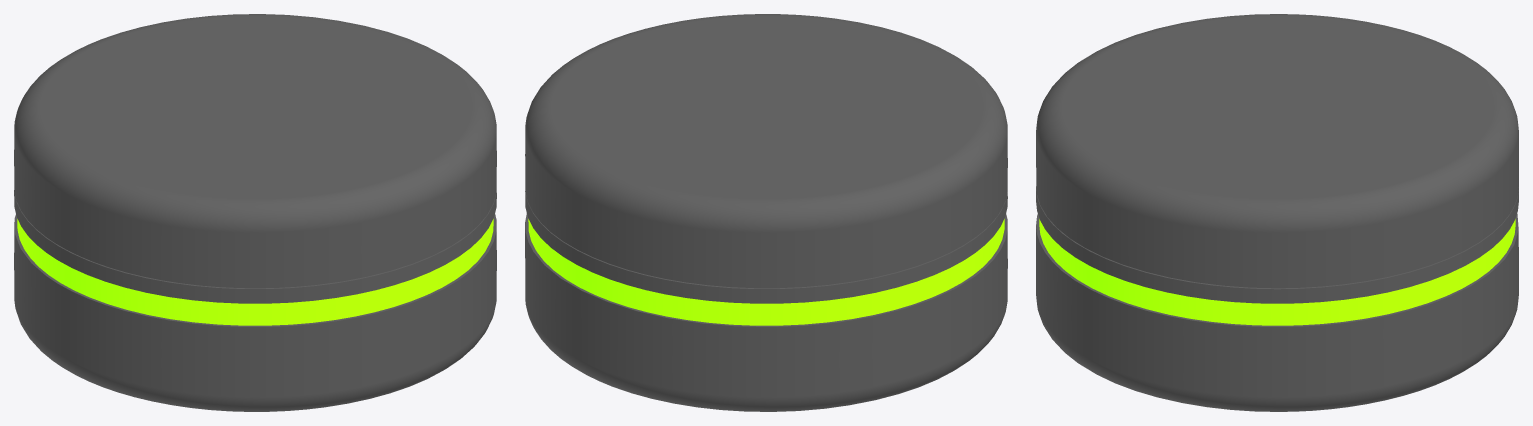
Rendered from stronger.gltf.
3 views of the same model, side by side, from view 1: azimuth 30°, elevation 25°; view 2: azimuth 150°, elevation 25°; view 3: azimuth 270°, elevation 25° (orthographic).
Parts seen in each view (by area): view 1: sopra, base, led; view 2: sopra, base, led; view 3: sopra, base, led.
Part boxes in pixels (box(x1,y1,x2,y2)): sopra: box(14, 14, 496, 288); base: box(14, 190, 496, 411); led: box(17, 219, 493, 325); sopra: box(525, 14, 1007, 288); base: box(525, 191, 1007, 411); led: box(528, 219, 1004, 325); sopra: box(1036, 14, 1518, 288); base: box(1036, 186, 1518, 411); led: box(1039, 219, 1515, 325).
Size of the model in its own units: 0.15 by 0.0723 by 0.15.
